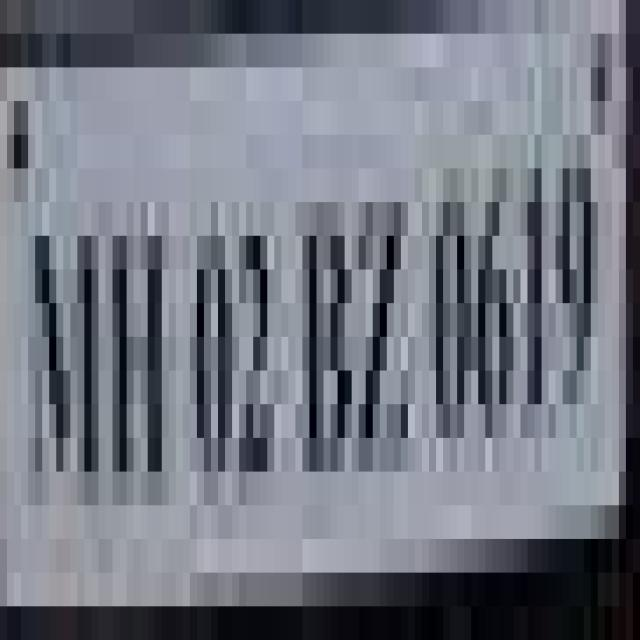license_plate: (7, 33, 605, 640)
